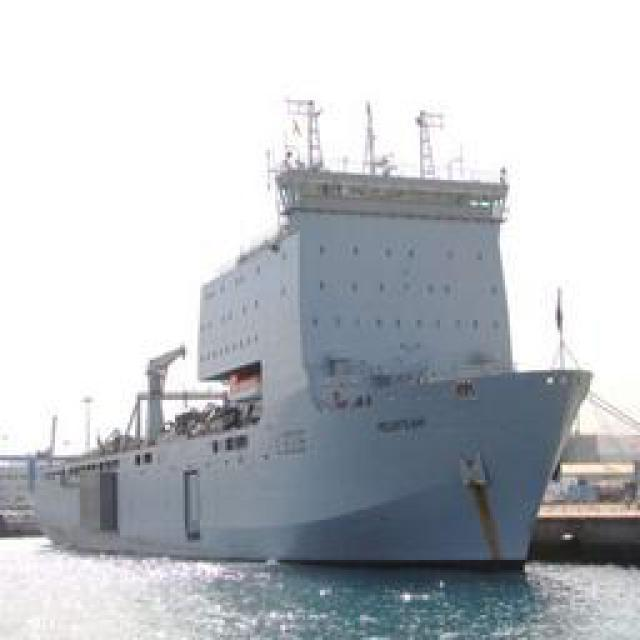Ship: (46, 122, 591, 580)
